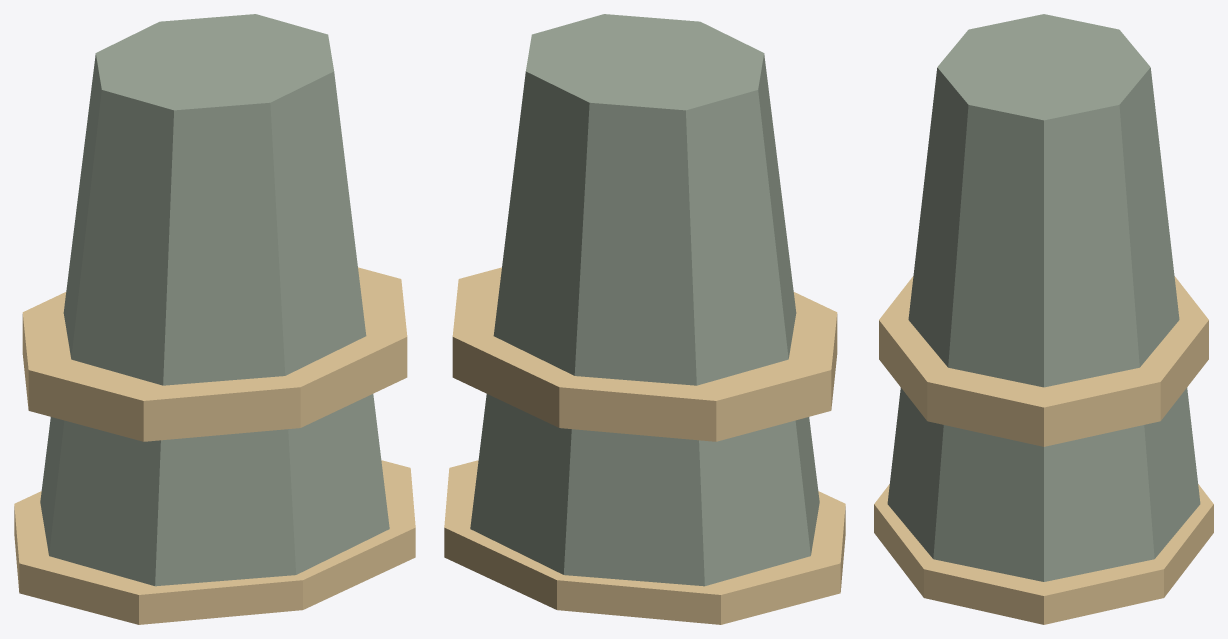
The model's file is npc_torso_01.glb.
3 renders of one model, left to right at view 1: azimuth 30°, elevation 25°; view 2: azimuth 150°, elevation 25°; view 3: azimuth 270°, elevation 25°, orthographic. The views are drawn at different scales.
Visible parts, largest first — view 1: npc_torso_01; view 2: npc_torso_01; view 3: npc_torso_01.
Boxes of the visible parts, box(x1,y1,x2,y2) form: npc_torso_01: box(14, 14, 415, 624); npc_torso_01: box(444, 14, 845, 624); npc_torso_01: box(874, 14, 1213, 624).
Size of the model in its own units: 0.7521 by 0.895 by 0.5866.
